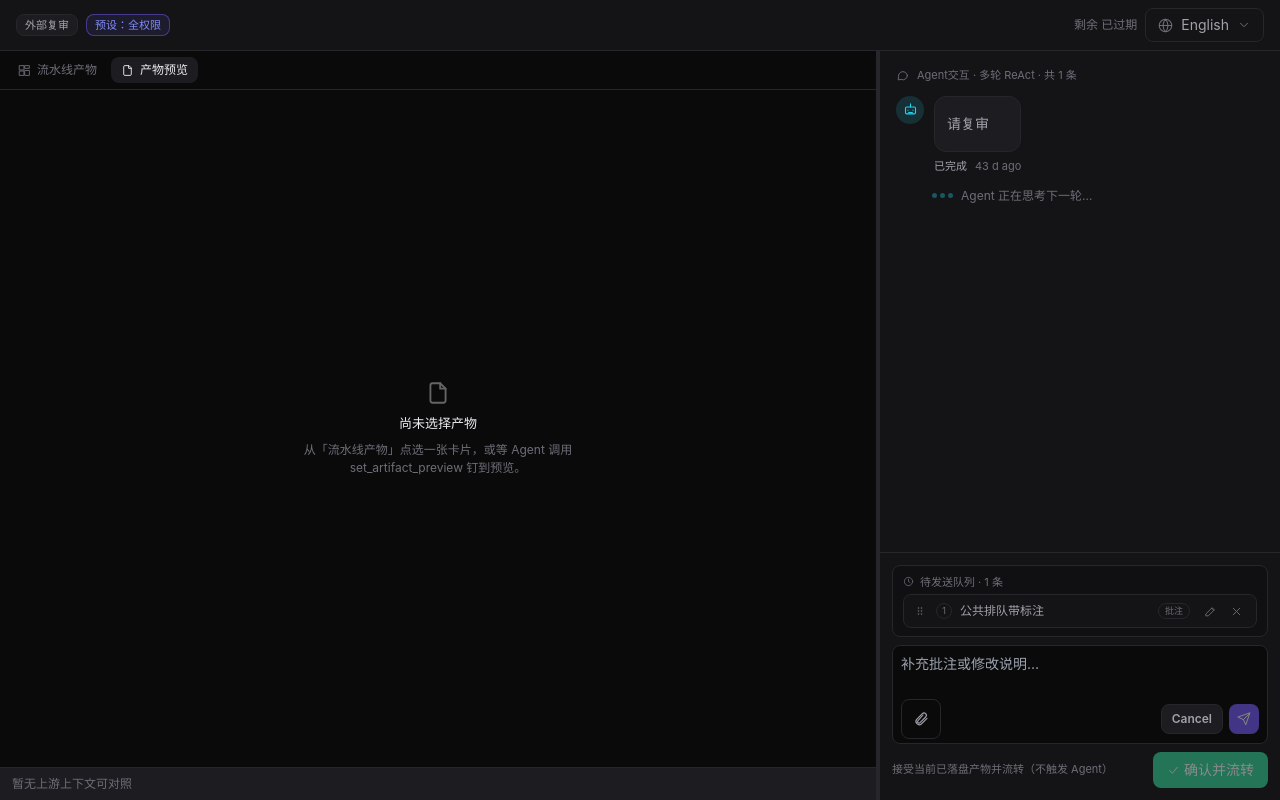
Test: PublicGateApprovalView workbench › public poll/WS queueItems keep annotations badge and refill on edit (plan g1/f4)
Click the button with test id "clarify-queue-edit". click: (1210, 611)
box: [1198,599,1222,623]
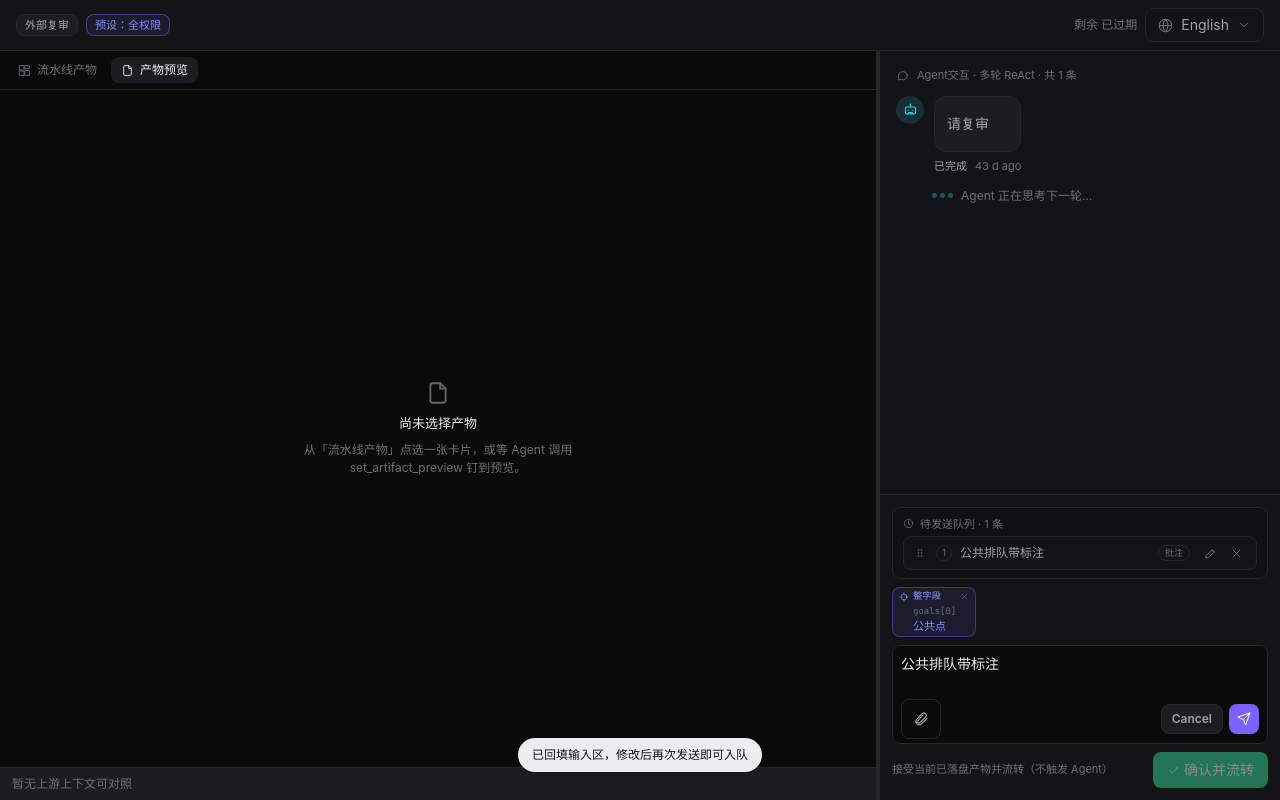
Check: the text box with test id "clarify-input" holds "公共排队带标注", box [901,654,1259,694]
